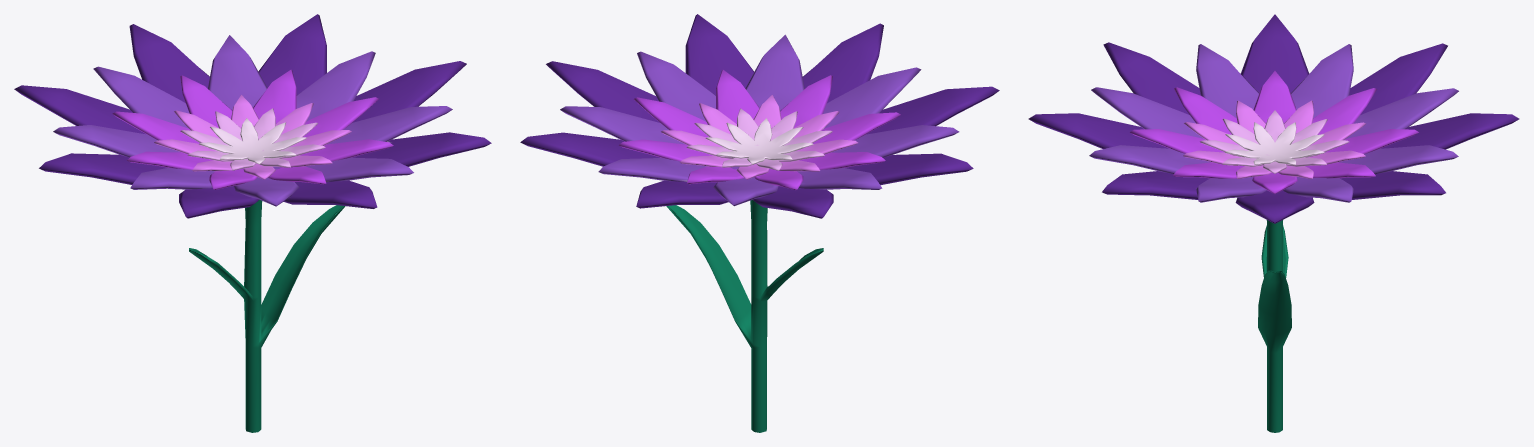
Rendered from Flower.fbx.
3 renders of one model, left to right at view 1: azimuth 30°, elevation 25°; view 2: azimuth 150°, elevation 25°; view 3: azimuth 270°, elevation 25°, orthographic.
Parts seen in each view (by area): view 1: polySurface19, polySurface18; view 2: polySurface19, polySurface18; view 3: polySurface19, polySurface18.
Part boxes in pixels (x1,y1,x2,y2): polySurface19: (14,14,491,432); polySurface18: (199,118,306,164); polySurface19: (520,14,999,432); polySurface18: (705,118,813,164); polySurface19: (1028,14,1519,432); polySurface18: (1225,122,1324,164).
Bounding box in the file's own units: 2 × 1.42 × 2.
Materials: 1 (1 with a texture image).
